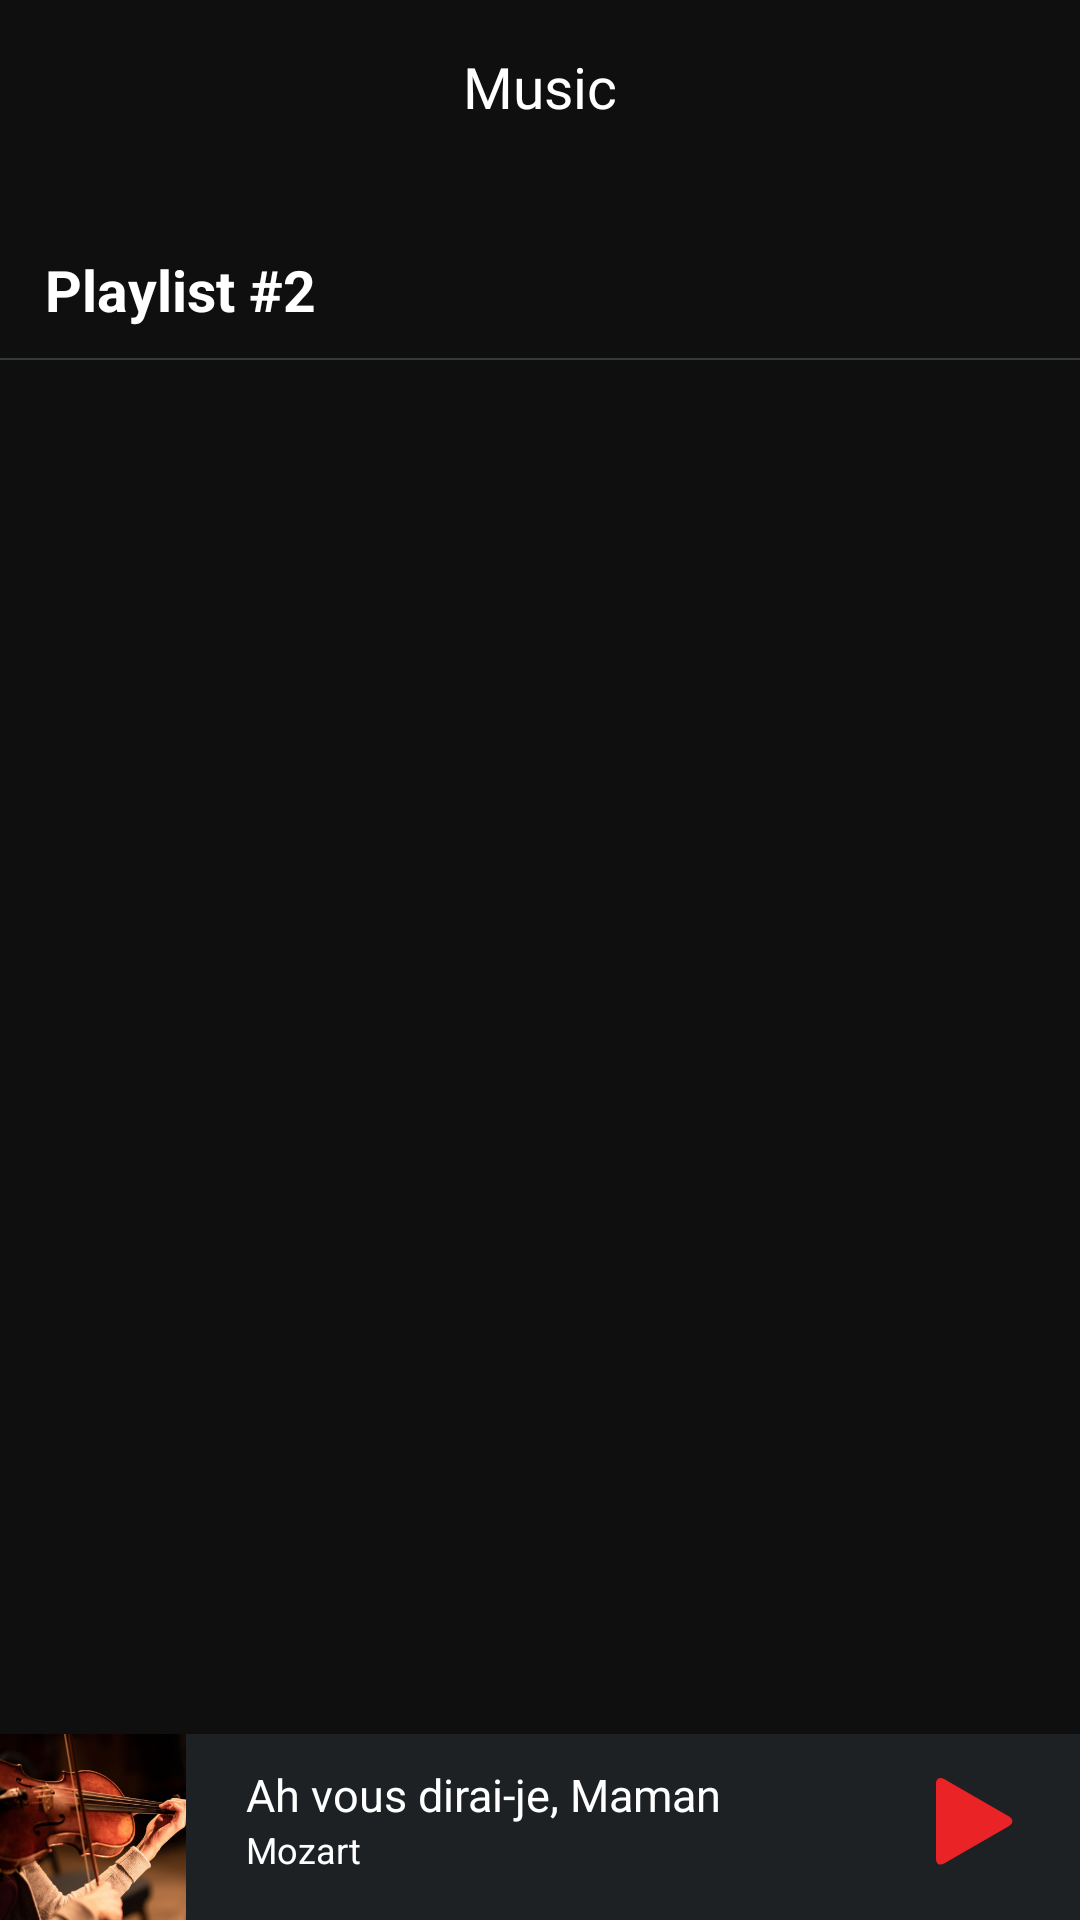

Point at icon controls on the screen. Image size 1080 × 1920, points as (x,y).
album: (93,1827)
play: (974,1821)
